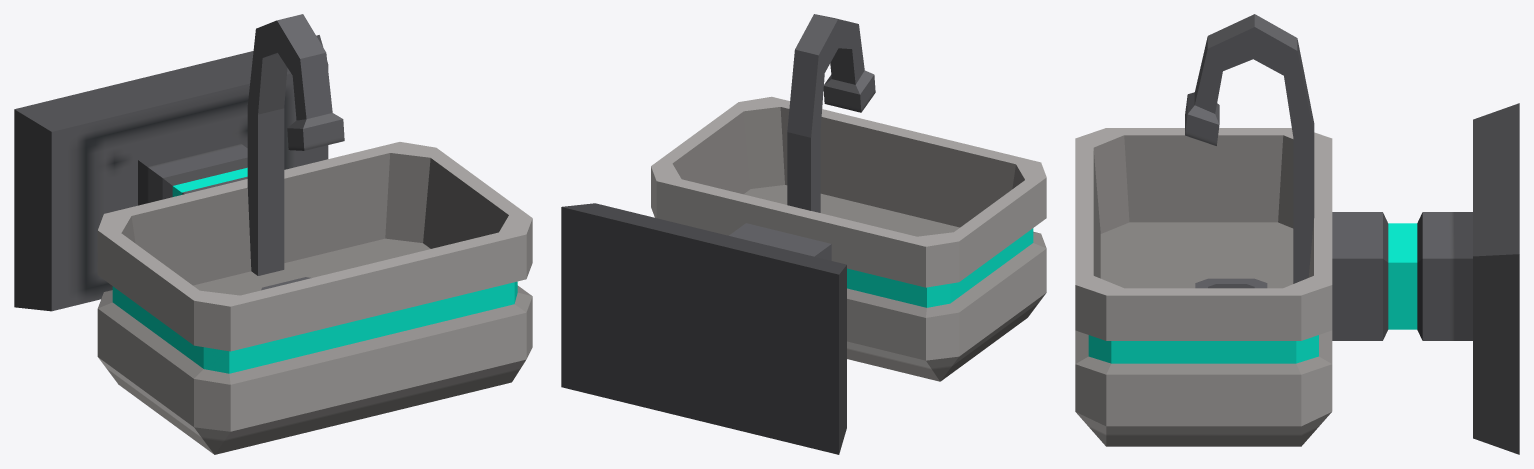
The model's file is SM_Prop_Sink_Wall_01.fbx.
3 renders of one model, left to right at view 1: azimuth 30°, elevation 25°; view 2: azimuth 150°, elevation 25°; view 3: azimuth 270°, elevation 25°, orthographic. The views are drawn at different scales.
Visible parts, largest first — view 1: SM_Prop_Sink_Wall_01; view 2: SM_Prop_Sink_Wall_01; view 3: SM_Prop_Sink_Wall_01.
Boxes of the visible parts, left/top/right/bottom form: SM_Prop_Sink_Wall_01: left=14, top=14, right=532, bottom=454; SM_Prop_Sink_Wall_01: left=561, top=14, right=1046, bottom=454; SM_Prop_Sink_Wall_01: left=1075, top=14, right=1519, bottom=454.
Bounding box in the file's own units: 65.15 × 64.4 × 73.
